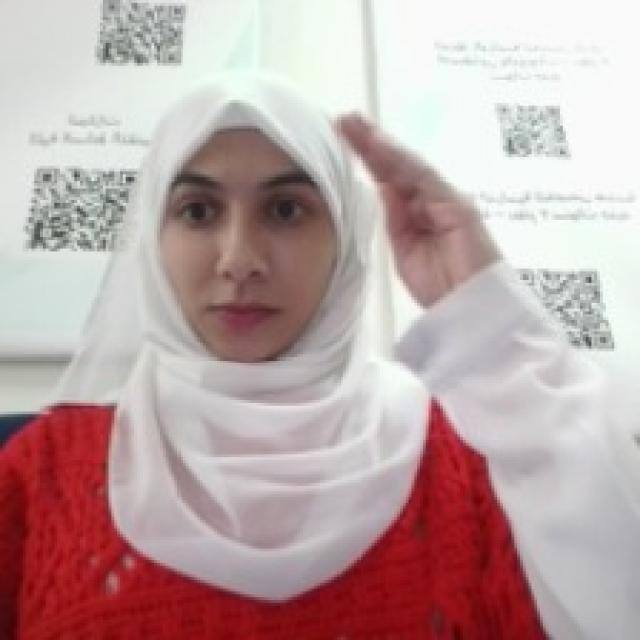Thanks: (326, 103, 500, 308)
